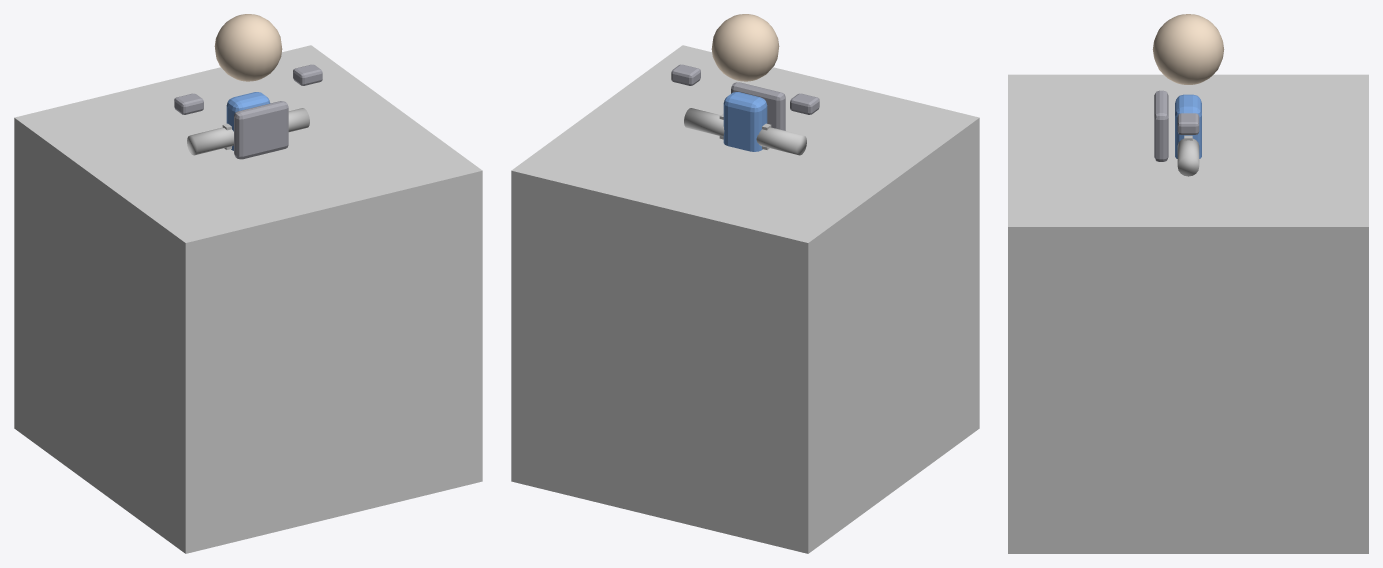
3 views of the same model, side by side, from view 1: azimuth 30°, elevation 25°; view 2: azimuth 150°, elevation 25°; view 3: azimuth 270°, elevation 25° (orthographic). The views are drawn at different scales.
Parts seen in each view (by area): view 1: Cube, AkkuBase_Head, Armor_chest_chest_plate, AkkuBase_UpperArm_L, AkkuBase_Torso; view 2: Cube, AkkuBase_Head, AkkuBase_Torso, Armor_chest_chest_plate, AkkuBase_UpperArm_L, AkkuBase_UpperArm_R; view 3: Cube, AkkuBase_Head, Armor_chest_chest_plate, AkkuBase_Torso, AkkuBase_UpperArm_R, Armor_right_shoulder_shoulder_pad.
Boxes of the visible parts, x1,y1,x2,y2 form: Cube: (14, 45, 482, 553); AkkuBase_Head: (214, 14, 282, 81); Armor_chest_chest_plate: (234, 101, 288, 159); AkkuBase_UpperArm_L: (187, 127, 233, 155); AkkuBase_Torso: (226, 92, 270, 150); Cube: (511, 45, 979, 553); AkkuBase_Head: (711, 14, 779, 81); AkkuBase_Torso: (723, 92, 767, 151); Armor_chest_chest_plate: (731, 82, 785, 130); AkkuBase_UpperArm_L: (756, 127, 806, 155); AkkuBase_UpperArm_R: (684, 108, 724, 136); Cube: (1008, 74, 1368, 553); AkkuBase_Head: (1152, 14, 1224, 84); Armor_chest_chest_plate: (1154, 90, 1168, 161); AkkuBase_Torso: (1175, 94, 1201, 158); AkkuBase_UpperArm_R: (1177, 138, 1199, 176); Armor_right_shoulder_shoulder_pad: (1177, 113, 1199, 134).
Bounding box in the file's own units: 2 × 2.82 × 2.
